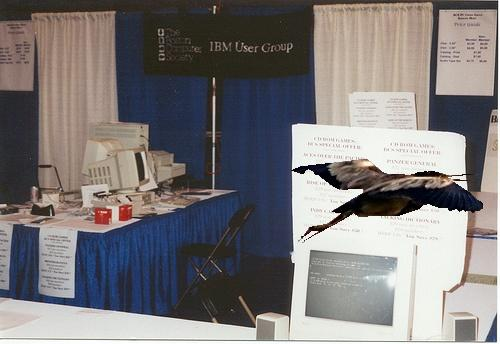tampered: (292, 160, 483, 243)
